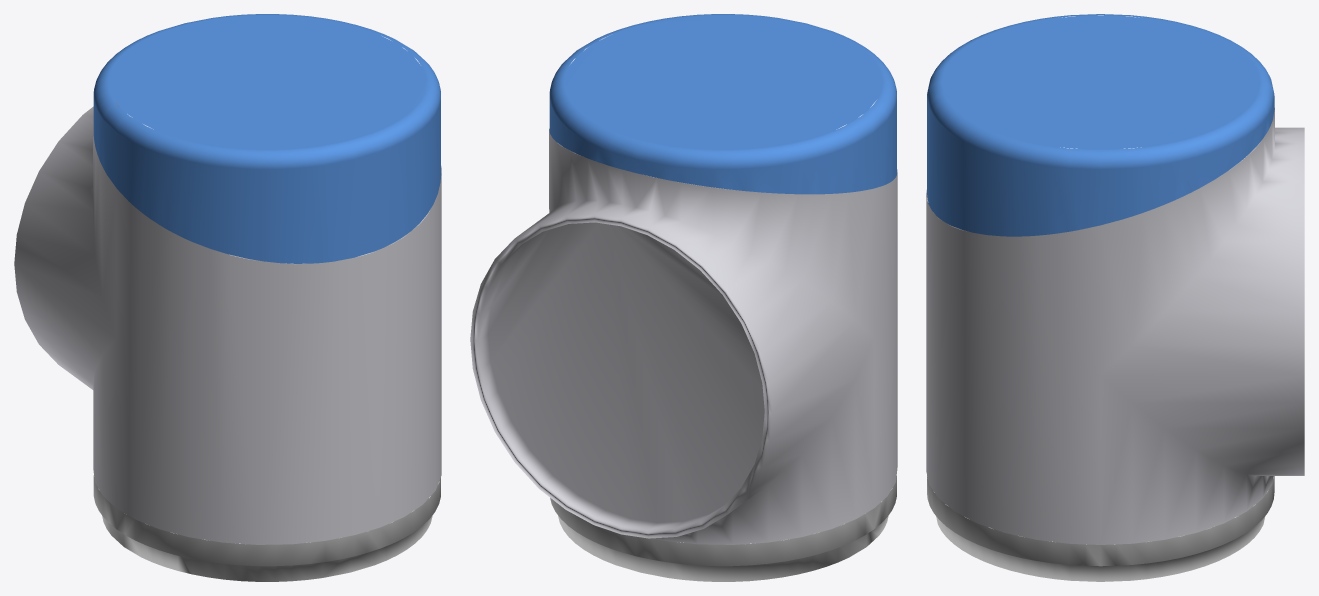
3 views of the same model, side by side, from view 1: azimuth 30°, elevation 25°; view 2: azimuth 150°, elevation 25°; view 3: azimuth 270°, elevation 25° (orthographic).
Visible parts, largest first — view 1: mesh; view 2: mesh; view 3: mesh.
Boxes of the visible parts, x1=… form: mesh: x1=14, y1=14, x2=441, y2=581; mesh: x1=470, y1=14, x2=897, y2=581; mesh: x1=926, y1=14, x2=1304, y2=581.
Size of the model in its own units: 118 by 160 by 128.
